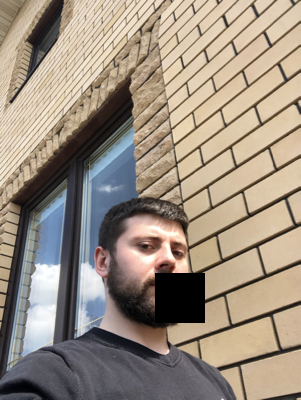without_mask: (123, 227, 190, 328)
